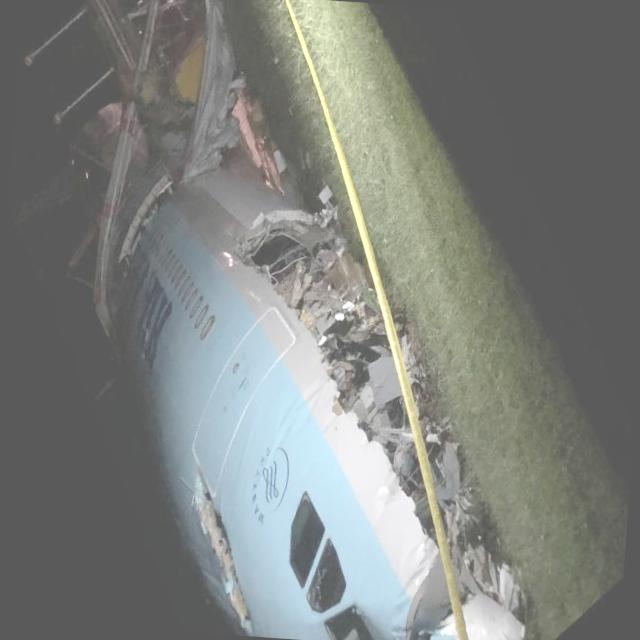crack: (185, 456, 269, 630)
